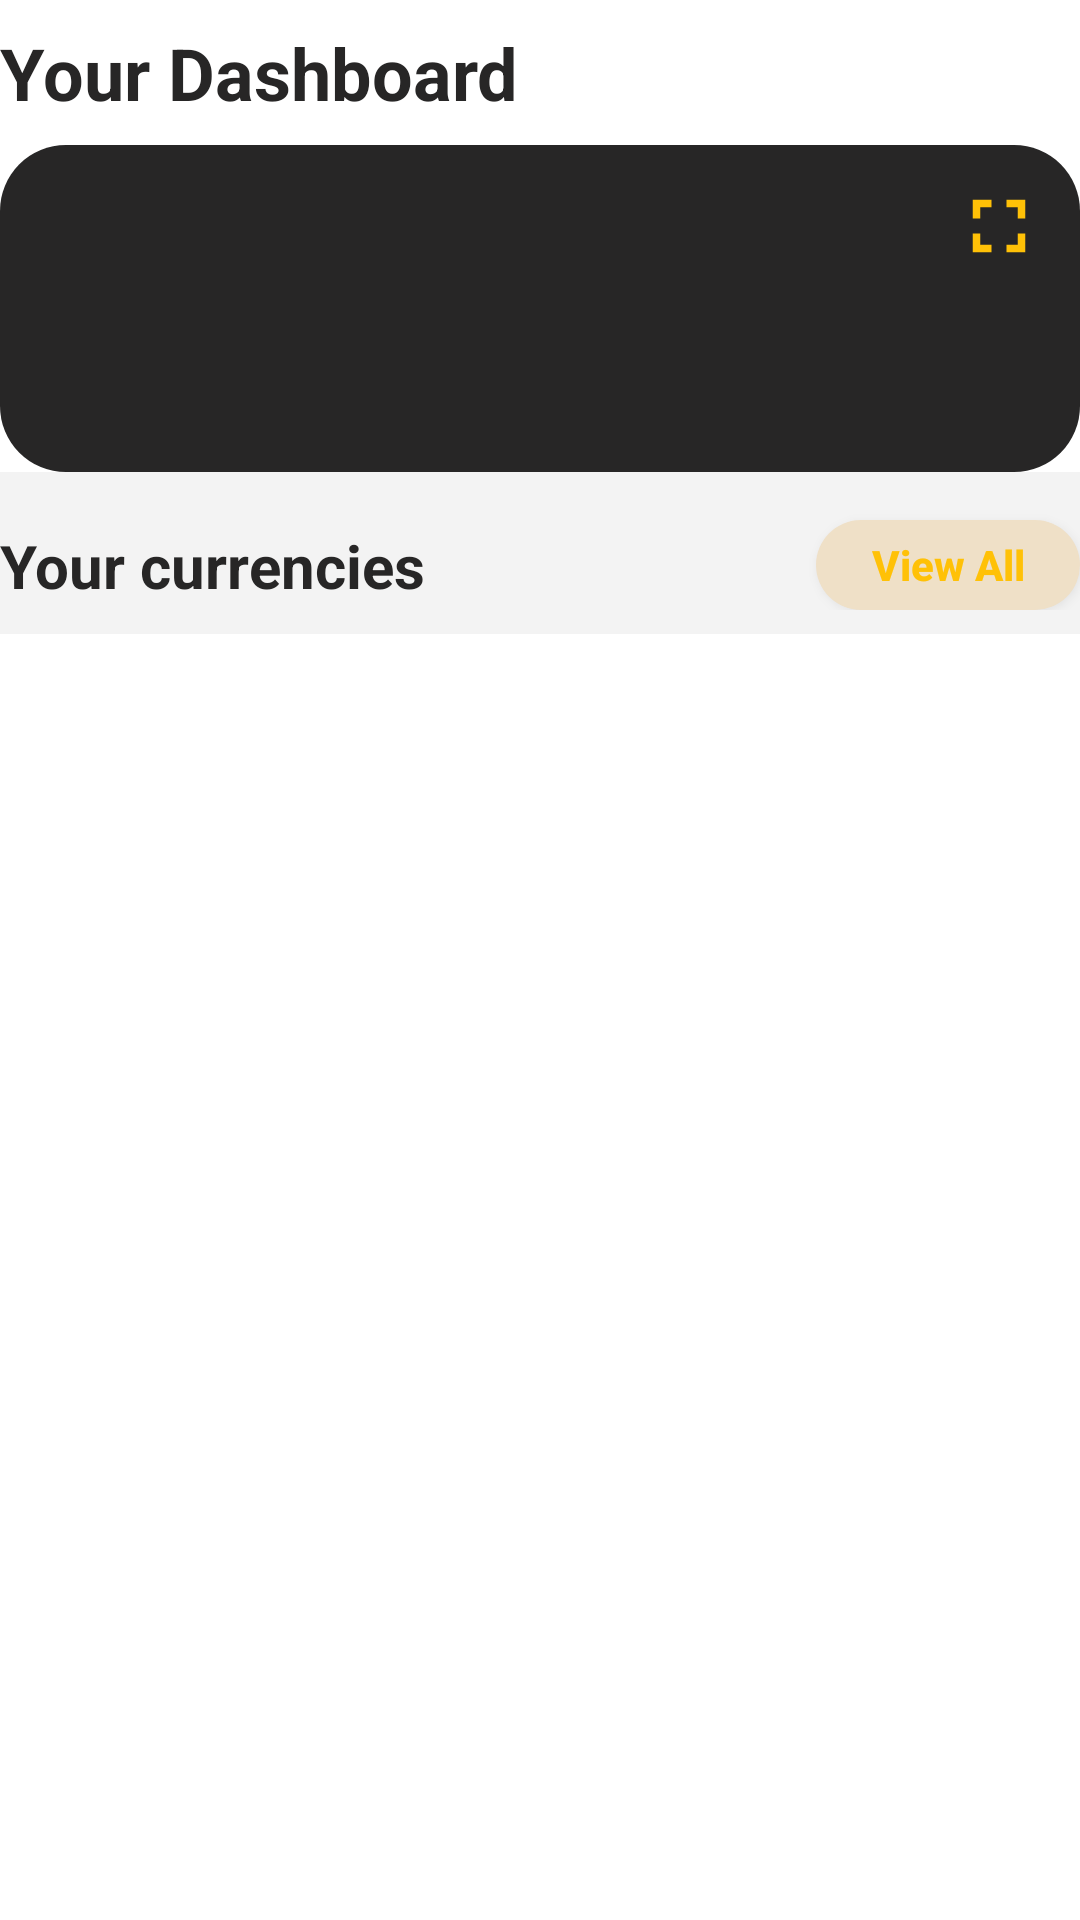

Icons on this 1080px×1920px Android screen, each with the point to tap as (x=x, y=y):
expand: (x=999, y=226)
